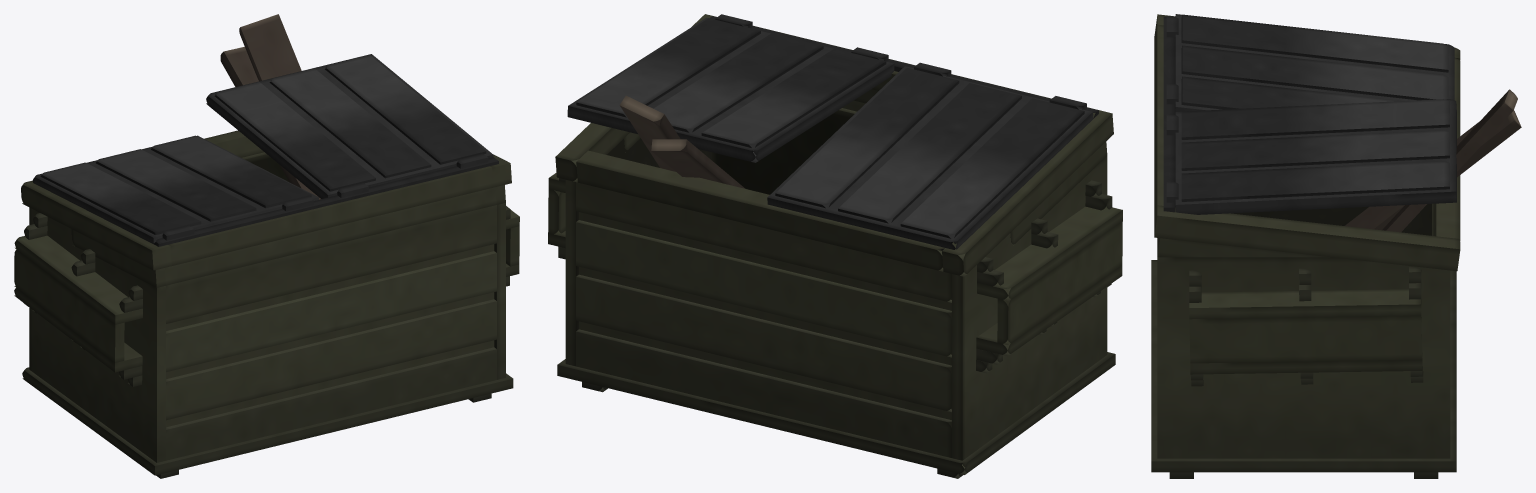
File: dumpster.obj
The picture shows the model from 3 angles, left to right: view 1: azimuth 30°, elevation 25°; view 2: azimuth 150°, elevation 25°; view 3: azimuth 270°, elevation 25°; orthographic projection. The views are drawn at different scales.
Parts seen in each view (by area): view 1: baseModel7, baseModel5, baseModel2, baseModel1, baseModel9, baseModel11, baseModel18, baseModel71, baseModel17, baseModel26, baseModel28, baseModel25 (+16 smaller); view 2: baseModel4, baseModel6, baseModel2, baseModel8, baseModel3, baseModel19, baseModel10, baseModel22, baseModel24, baseModel23, baseModel71, baseModel21 (+16 smaller); view 3: baseModel0, baseModel37, baseModel13, baseModel25, baseModel26, baseModel28, baseModel22, baseModel23, baseModel71, baseModel27, baseModel35, baseModel24 (+9 smaller).
Part boxes in pixels (<box>): baseModel7: <box>166,299,496,420</box>; baseModel5: <box>166,251,496,371</box>; baseModel2: <box>29,207,165,462</box>; baseModel1: <box>166,205,496,323</box>; baseModel9: <box>166,347,496,460</box>; baseModel11: <box>166,244,494,427</box>; baseModel18: <box>168,166,493,265</box>; baseModel71: <box>22,367,513,475</box>; baseModel17: <box>165,187,496,285</box>; baseModel26: <box>269,68,431,178</box>; baseModel28: <box>214,82,375,191</box>; baseModel25: <box>325,55,486,164</box>; baseModel4: <box>576,220,951,357</box>; baseModel6: <box>576,274,951,412</box>; baseModel2: <box>952,156,1107,467</box>; baseModel8: <box>576,329,951,457</box>; baseModel3: <box>576,182,951,302</box>; baseModel19: <box>576,150,944,271</box>; baseModel10: <box>579,212,951,427</box>; baseModel22: <box>900,98,1084,243</box>; baseModel24: <box>775,67,959,208</box>; baseModel23: <box>838,83,1021,223</box>; baseModel71: <box>557,352,1115,474</box>; baseModel21: <box>767,66,1093,250</box>; baseModel0: <box>1157,257,1450,458</box>; baseModel37: <box>1189,315,1422,363</box>; baseModel13: <box>1154,205,1460,271</box>; baseModel25: <box>1181,161,1449,201</box>; baseModel26: <box>1181,130,1449,170</box>; baseModel28: <box>1181,99,1449,139</box>; baseModel22: <box>1181,14,1448,72</box>; baseModel23: <box>1181,45,1448,100</box>; baseModel71: <box>1151,260,1456,472</box>; baseModel27: <box>1175,99,1456,214</box>; baseModel35: <box>1189,289,1421,319</box>; baseModel24: <box>1181,76,1400,109</box>.
Bounding box in the file's own units: 2.75 × 1.91 × 1.9.
1 material, 1 textured.
